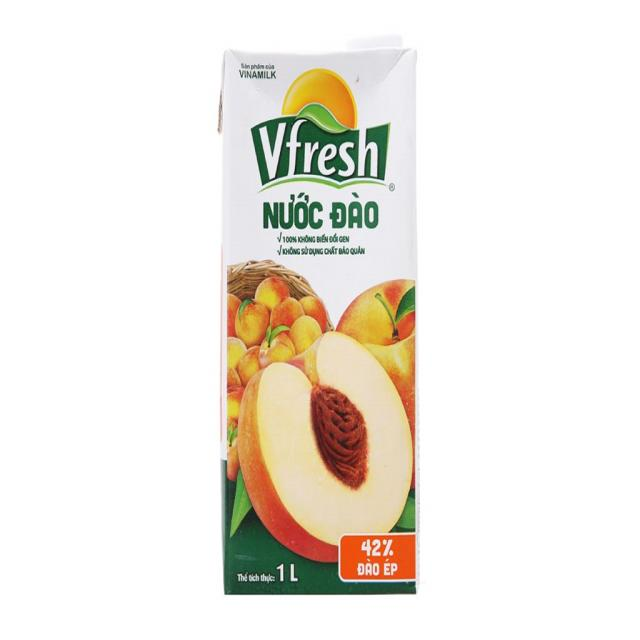non_white_jug: (202, 23, 428, 610)
